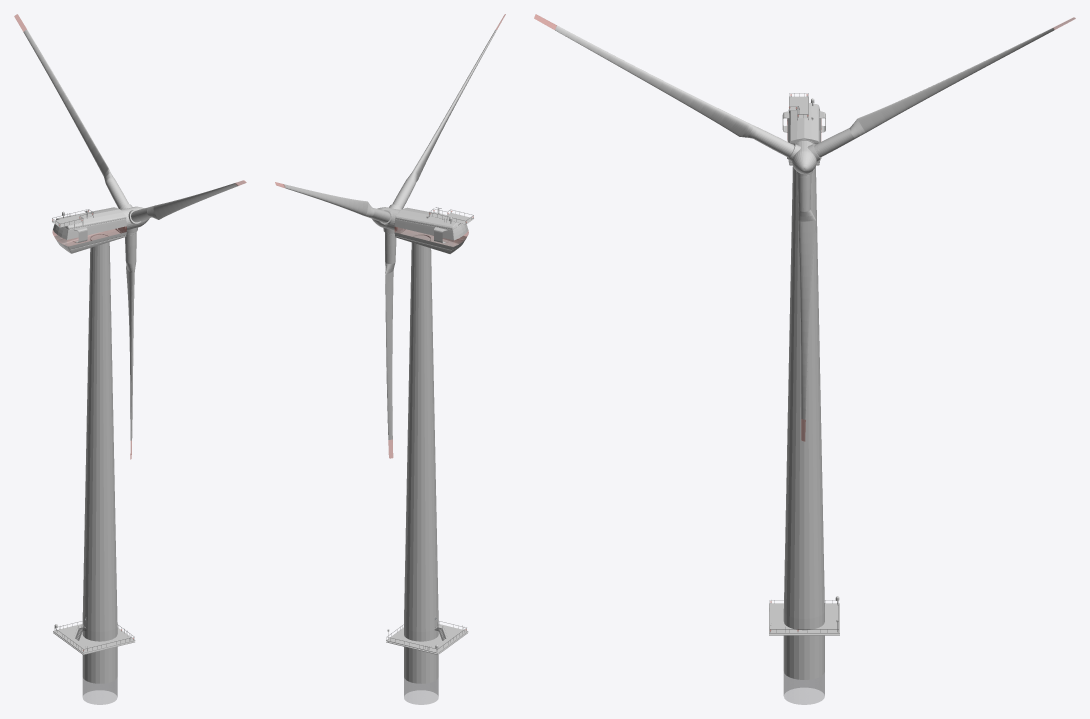
File: torre-eolica2.gltf
3 views of the same model, side by side, from view 1: azimuth 30°, elevation 25°; view 2: azimuth 150°, elevation 25°; view 3: azimuth 270°, elevation 25° (orthographic). The views are drawn at different scales.
Visible parts, largest first — view 1: Wind Turbines N190121; view 2: Wind Turbines N190121; view 3: Wind Turbines N190121.
Boxes of the visible parts, x1,y1,x2,y2 form: Wind Turbines N190121: (14, 14, 246, 704); Wind Turbines N190121: (275, 14, 505, 704); Wind Turbines N190121: (534, 14, 1075, 704).
Bounding box in the file's own units: 19.79 × 116 × 81.31.
Materials: 4 (4 with a texture image).
